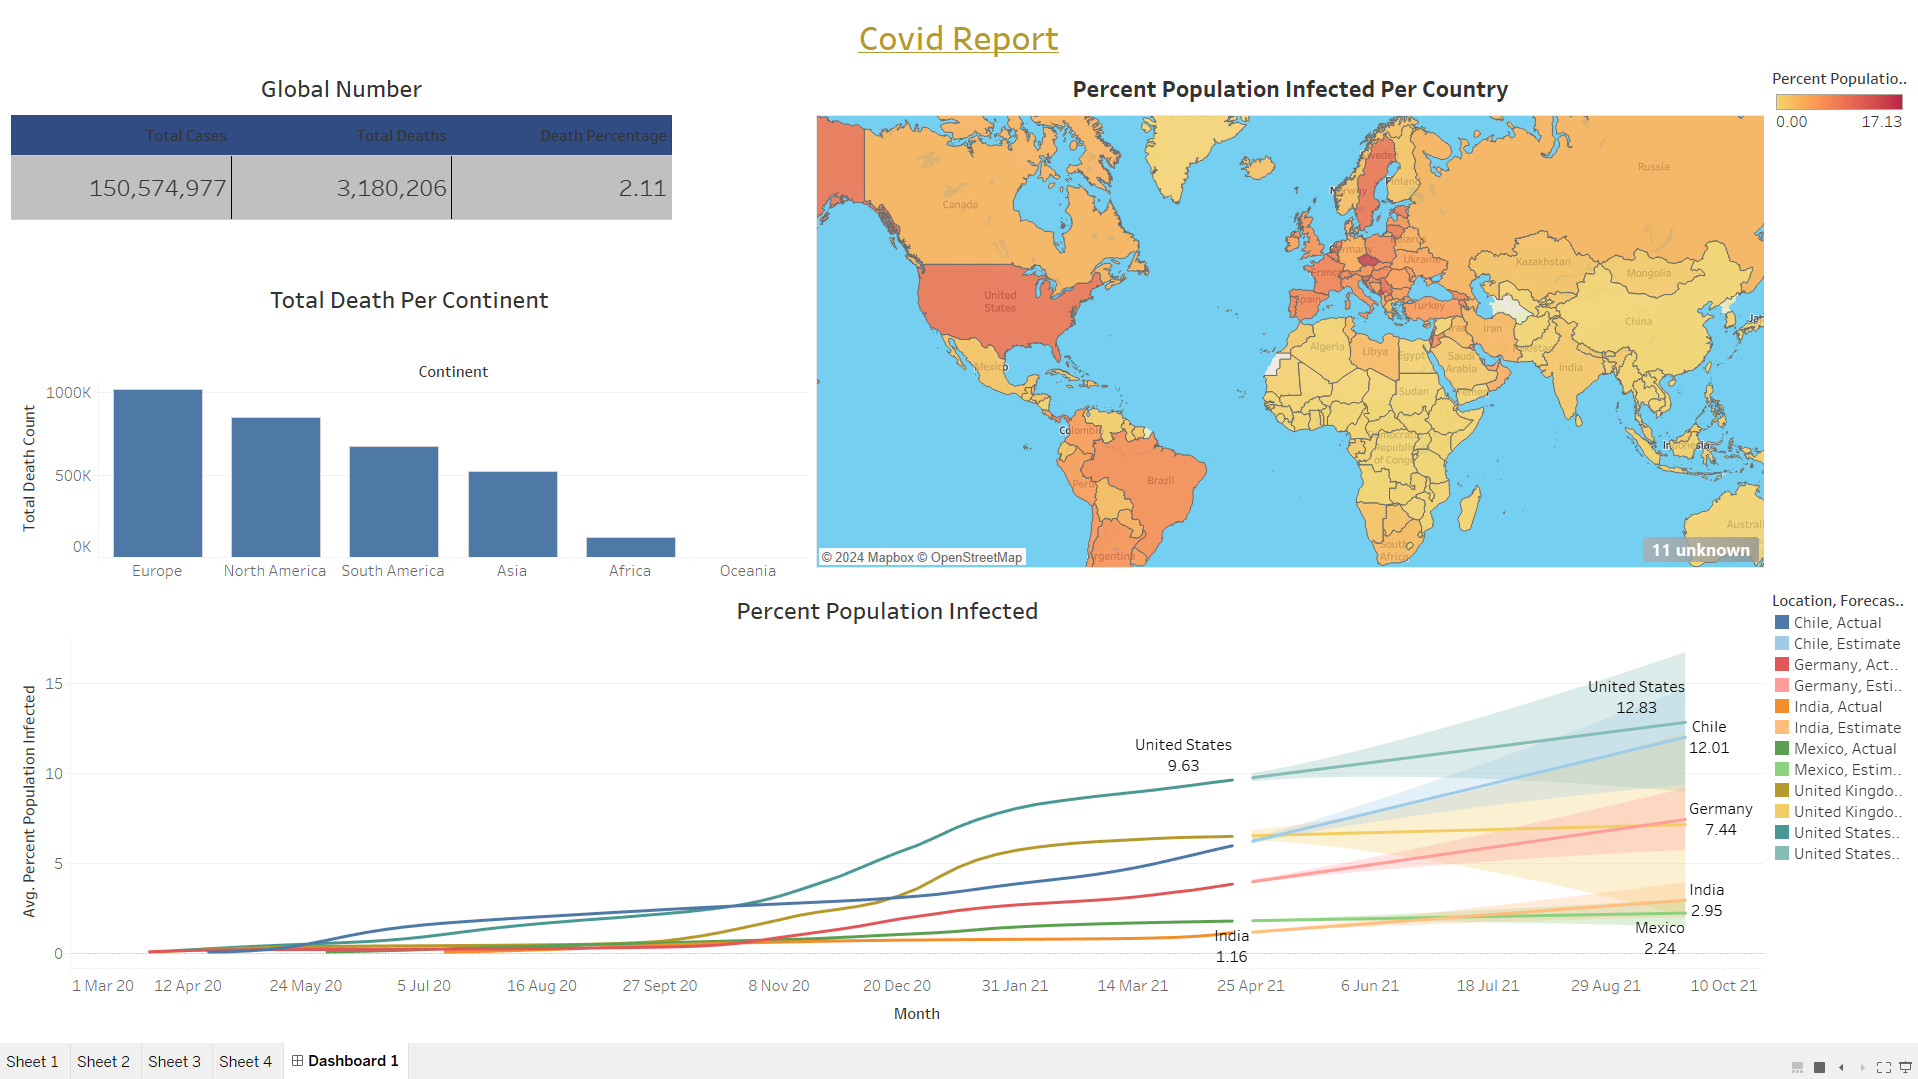

This screenshot's page, from the dashboard's own definition file:
{"tool":"tableau","page":{"name":"Dashboard 1","canvas":[1000,1000],"units":"permille","ordinal":0},"visuals":[{"type":"text","box":[4.8,9.4,990.3,54.1]},{"type":"worksheet","title":"Sheet 1","mark":"Automatic","box":[4.8,63.5,418.6,200.7]},{"type":"worksheet","title":"Sheet 3","mark":"Automatic","box":[423.4,63.5,497.5,498.2]},{"type":"legend","title":"Sheet 3","param":"[federated.04otzpf1h7fcpn1bc7mdf1hwnbrt].[sum:PercentPopulationInfected:qk]","box":[920.9,63.5,74.2,85.8]},{"type":"worksheet","title":"Sheet 2","mark":"Automatic","rows":["TotalDeathCount"],"cols":["location"],"box":[4.8,264.2,418.6,297.5]},{"type":"worksheet","title":"Sheet 4","mark":"Automatic","rows":["PercentPopulationInfected"],"cols":["date"],"box":[4.8,561.7,916.1,428.9]},{"type":"legend","title":"Sheet 4","param":"[federated.0v9sfvw1qodbxd18i432m135kadq].[none:location:nk]\n[federated.0v9sfvw1q","box":[920.9,561.7,74.2,428.9]}]}

Visuals, with their boxes on the dashboard's canvas, which has no fixed pixel size, in thousandths of its width and height (x1, y1, x2, y2). These are canvas units, not pixel positions in the 1918x1079 screenshot, which may show the page scaled, cropped or inside an application window:
text: rect(5, 9, 995, 64)
"Sheet 1" worksheet: rect(5, 64, 423, 264)
"Sheet 3" worksheet: rect(423, 64, 921, 562)
"Sheet 3" legend: rect(921, 64, 995, 149)
"Sheet 2" worksheet: rect(5, 264, 423, 562)
"Sheet 4" worksheet: rect(5, 562, 921, 991)
"Sheet 4" legend: rect(921, 562, 995, 991)
